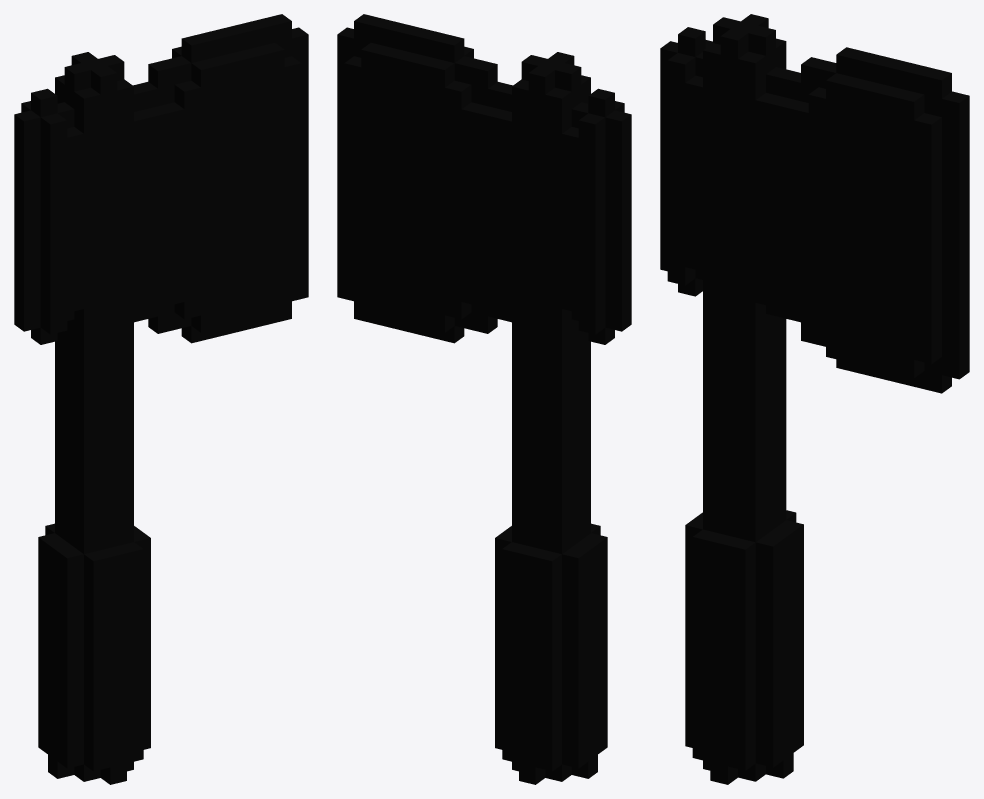
File: Axe.obj
3 views of the same model, side by side, from view 1: azimuth 30°, elevation 25°; view 2: azimuth 150°, elevation 25°; view 3: azimuth 330°, elevation 25° (orthographic). The views are drawn at different scales.
Bounding box in the file's own units: 1.7 × 4 × 0.5.
